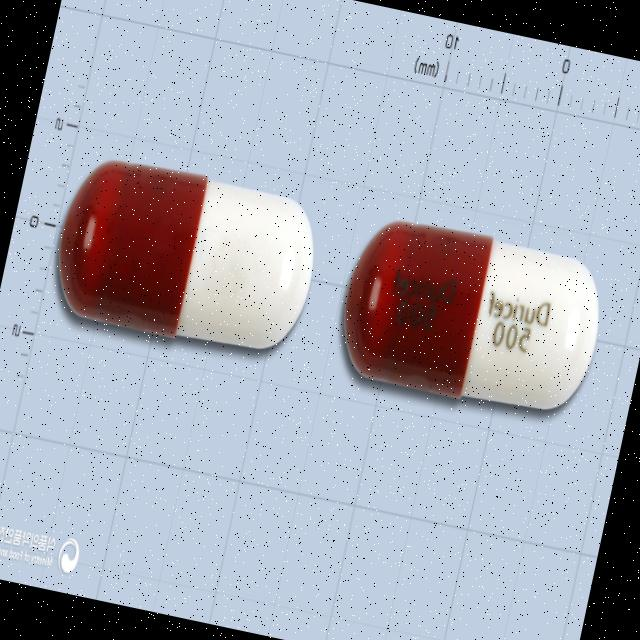Duricef Cap: (329, 208, 613, 426)
